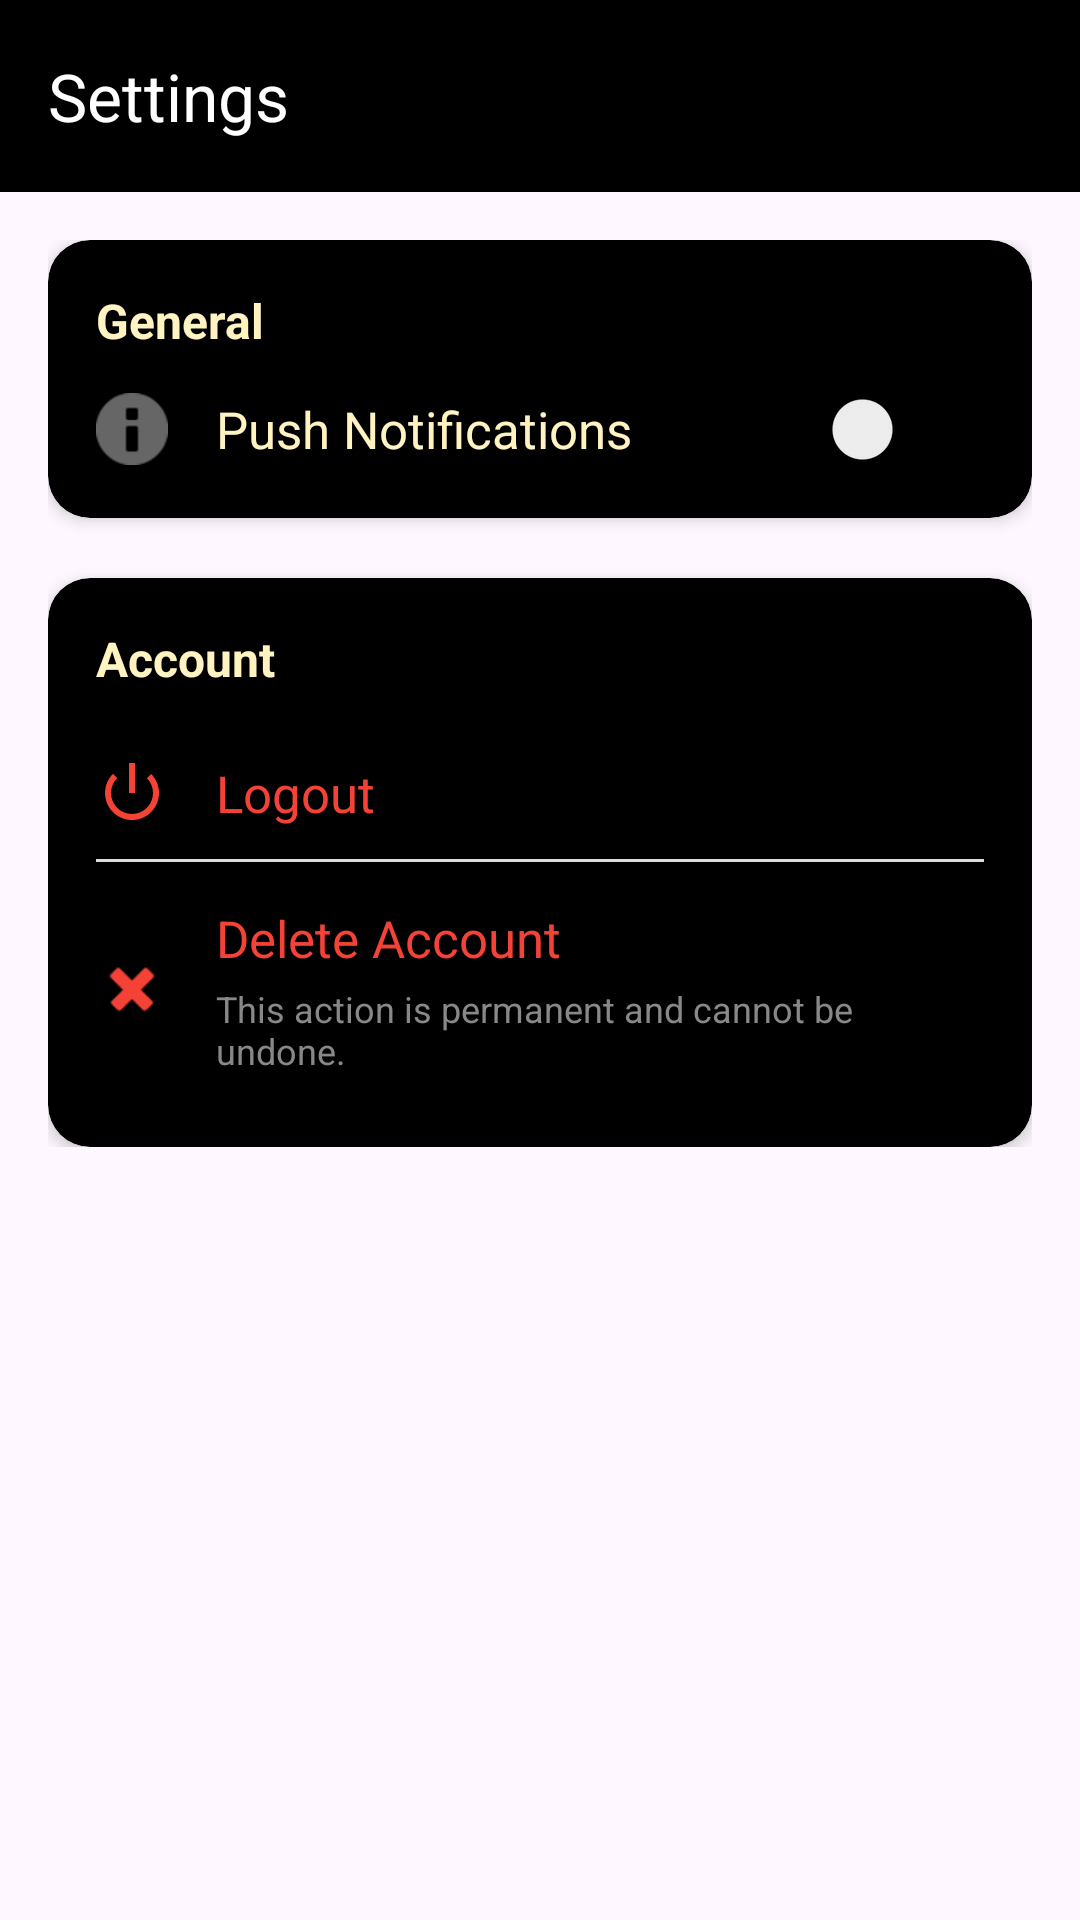

Icon bounding boxes for this 1080px x 1920px phone screenshot, format (x1, y1, x2, y2):
info: (96, 393, 168, 465)
lock power off: (105, 763, 159, 820)
